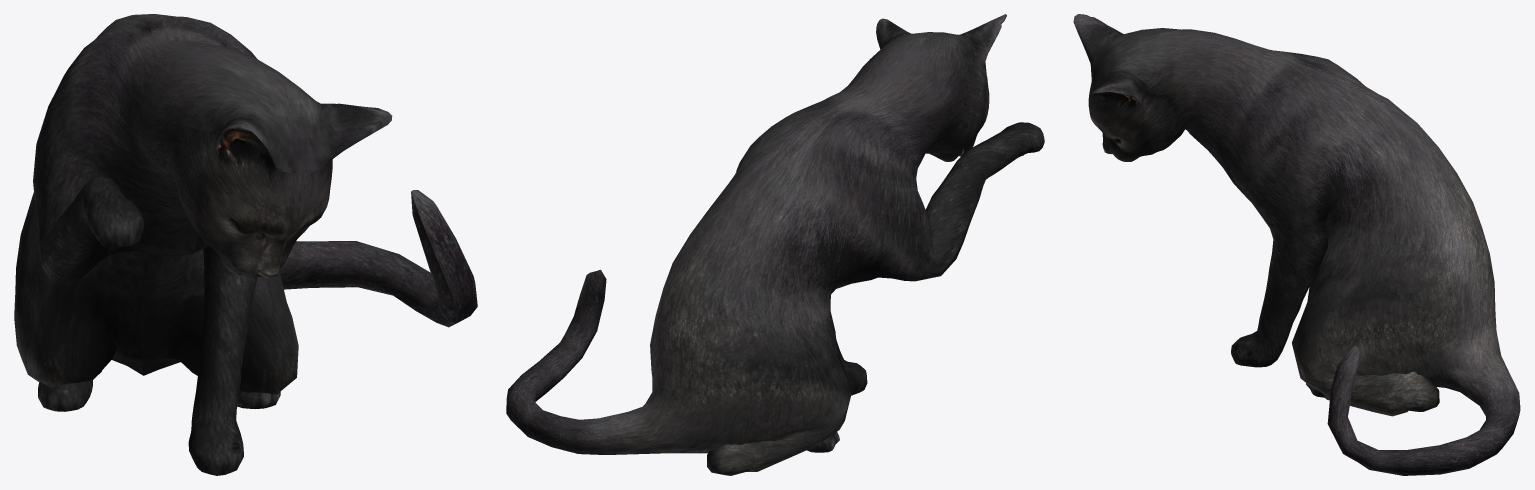
The model's file is cat_black__material_81.obj.
The picture shows the model from 3 angles, left to right: view 1: azimuth 30°, elevation 25°; view 2: azimuth 150°, elevation 25°; view 3: azimuth 270°, elevation 25°; orthographic projection. The views are drawn at different scales.
Parts seen in each view (by area): view 1: Export_sk_player_cat_lod0_Material_#81_0; view 2: Export_sk_player_cat_lod0_Material_#81_0; view 3: Export_sk_player_cat_lod0_Material_#81_0.
Boxes of the visible parts, x1=… form: Export_sk_player_cat_lod0_Material_#81_0: x1=14, y1=14, x2=477, y2=475; Export_sk_player_cat_lod0_Material_#81_0: x1=506, y1=14, x2=1044, y2=475; Export_sk_player_cat_lod0_Material_#81_0: x1=1073, y1=14, x2=1520, y2=475.
Bounding box in the file's own units: 11.34 × 9.5 × 11.78.
1 material, 1 textured.
